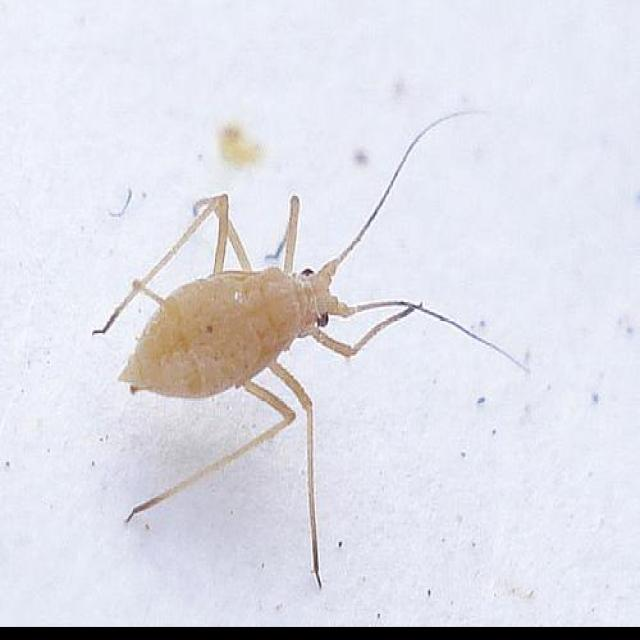Aphids: (92, 140, 503, 526)
